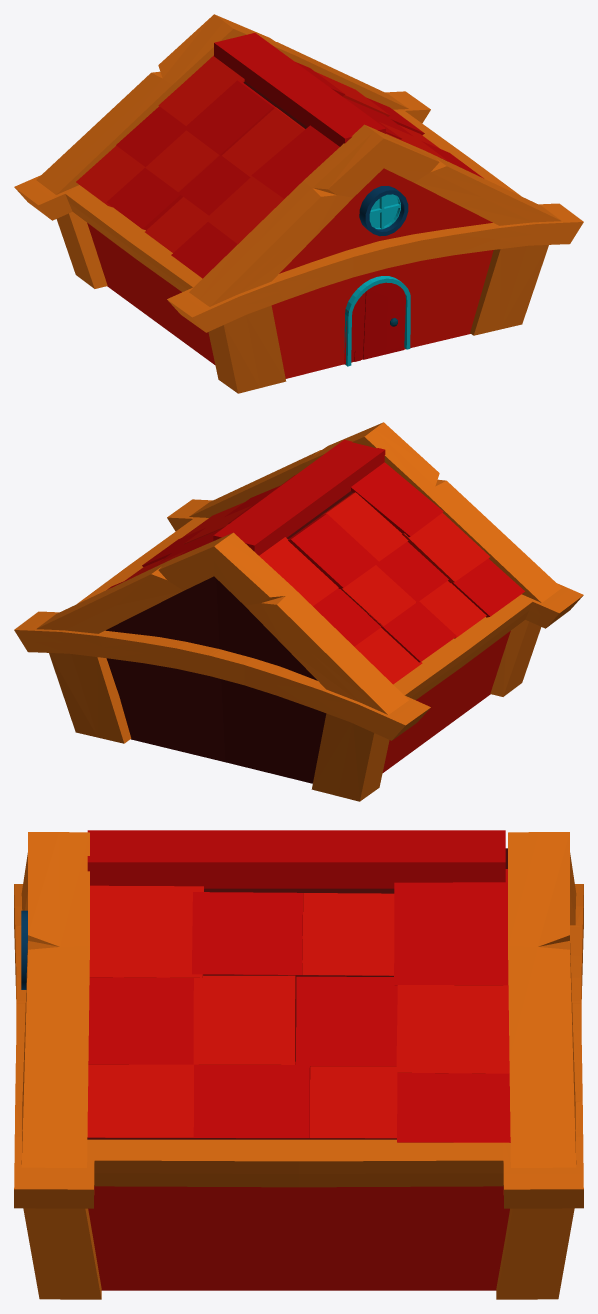
File: leyla_teyze_ev.FBX
The picture shows the model from 3 angles, top to bottom: view 1: azimuth 30°, elevation 25°; view 2: azimuth 150°, elevation 25°; view 3: azimuth 270°, elevation 25°; orthographic projection. The views are drawn at different scales.
Visible parts, largest first — view 1: walls_Cubo, Box002, puerta_001_Cilindro_002, Cubo_031_Cubo_034, Cubo_010_Cubo_029, Cubo_028_Cubo_031, Cubo_027_Cubo_030, Cubo_035_Cubo_038, Cubo_031_Cubo_035, Cubo_032_Cubo_035, Cubo_029_Cubo_032, Cubo_036_Cubo_039 (+7 smaller); view 2: walls_Cubo, Box002, Cubo_031_Cubo_034, Cubo_010_Cubo_029, Cubo_027_Cubo_030, Cubo_028_Cubo_031, Cubo_031_Cubo_035, Cubo_032_Cubo_035, Cubo_035_Cubo_038, Cubo_029_Cubo_032, Cubo_034_Cubo_037, Cubo_036_Cubo_039 (+2 smaller); view 3: walls_Cubo, Box002, Cubo_014_Cubo_015, Cubo_015_Cubo_016, Cubo_023_Cubo_025, Cubo_024_Cubo_026, Cubo_020_Cubo_021, Cubo_021_Cubo_022, Cubo_018_Cubo_019, Cubo_022_Cubo_023, Cubo_016_Cubo_024, Cubo_025_Cubo_027 (+2 smaller).
Part boxes in pixels (left/top/right/bottom): walls_Cubo: left=14, top=14, right=583, bottom=393; Box002: left=214, top=33, right=385, bottom=146; puerta_001_Cilindro_002: left=343, top=282, right=405, bottom=364; Cubo_031_Cubo_034: left=184, top=80, right=275, bottom=155; Cubo_010_Cubo_029: left=251, top=125, right=339, bottom=198; Cubo_028_Cubo_031: left=222, top=107, right=305, bottom=177; Cubo_027_Cubo_030: left=205, top=176, right=283, bottom=243; Cubo_035_Cubo_038: left=158, top=55, right=244, bottom=125; Cubo_031_Cubo_035: left=106, top=165, right=191, bottom=230; Cubo_032_Cubo_035: left=145, top=130, right=219, bottom=192; Cubo_029_Cubo_032: left=178, top=155, right=250, bottom=215; Cubo_036_Cubo_039: left=116, top=106, right=186, bottom=166; walls_Cubo: left=14, top=422, right=583, bottom=801; Box002: left=213, top=439, right=385, bottom=555; Cubo_031_Cubo_034: left=288, top=513, right=379, bottom=588; Cubo_010_Cubo_029: left=351, top=462, right=443, bottom=536; Cubo_027_Cubo_030: left=402, top=513, right=489, bottom=582; Cubo_028_Cubo_031: left=321, top=492, right=408, bottom=561; Cubo_031_Cubo_035: left=367, top=601, right=456, bottom=662; Cubo_032_Cubo_035: left=341, top=565, right=416, bottom=626; Cubo_035_Cubo_038: left=259, top=537, right=338, bottom=605; Cubo_029_Cubo_032: left=376, top=541, right=448, bottom=602; Cubo_034_Cubo_037: left=451, top=558, right=524, bottom=617; Cubo_036_Cubo_039: left=313, top=588, right=381, bottom=646; walls_Cubo: left=14, top=832, right=583, bottom=1299; Box002: left=87, top=830, right=505, bottom=888; Cubo_014_Cubo_015: left=394, top=869, right=508, bottom=985; Cubo_015_Cubo_016: left=396, top=985, right=509, bottom=1073; Cubo_023_Cubo_025: left=89, top=885, right=203, bottom=977; Cubo_024_Cubo_026: left=88, top=977, right=193, bottom=1064; Cubo_020_Cubo_021: left=192, top=892, right=303, bottom=975; Cubo_021_Cubo_022: left=193, top=975, right=295, bottom=1064; Cubo_018_Cubo_019: left=296, top=976, right=397, bottom=1066; Cubo_022_Cubo_023: left=193, top=1061, right=310, bottom=1138; Cubo_016_Cubo_024: left=397, top=1072, right=510, bottom=1142; Cubo_025_Cubo_027: left=87, top=1064, right=193, bottom=1137.
Bounding box in the file's own units: 13.72 × 7.48 × 10.8.
